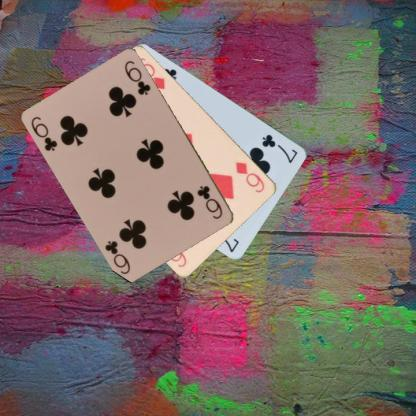6c: (29, 114, 60, 152), (195, 182, 224, 220)
6d: (233, 159, 266, 194)
7c: (260, 131, 300, 165)
